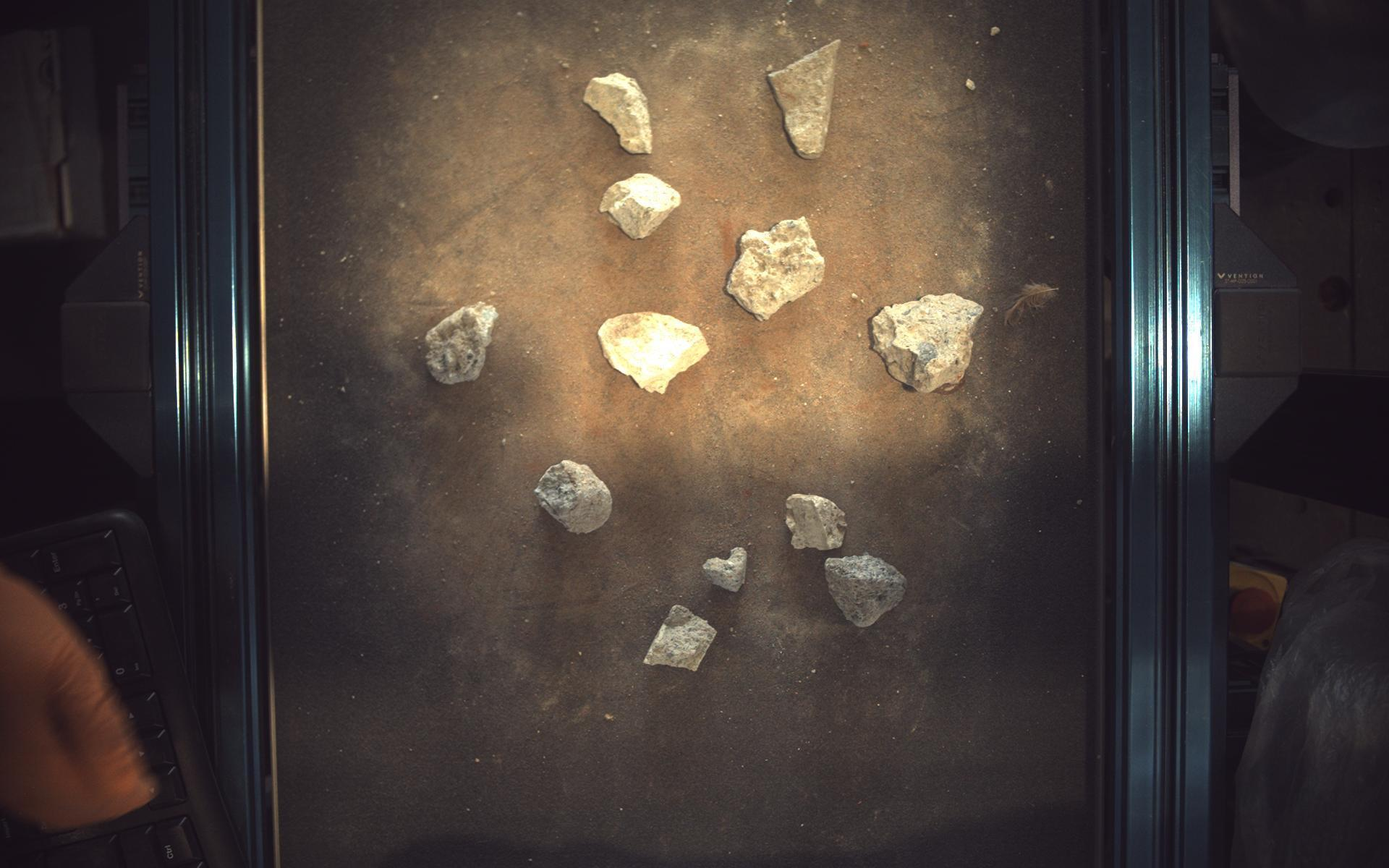concrete: (873, 293, 985, 393), (727, 217, 826, 320), (598, 311, 709, 393), (769, 38, 841, 158), (826, 554, 908, 629), (425, 301, 498, 385), (535, 460, 613, 534), (585, 72, 653, 153), (600, 172, 681, 239), (645, 605, 718, 672), (787, 494, 848, 550), (704, 548, 749, 593)
